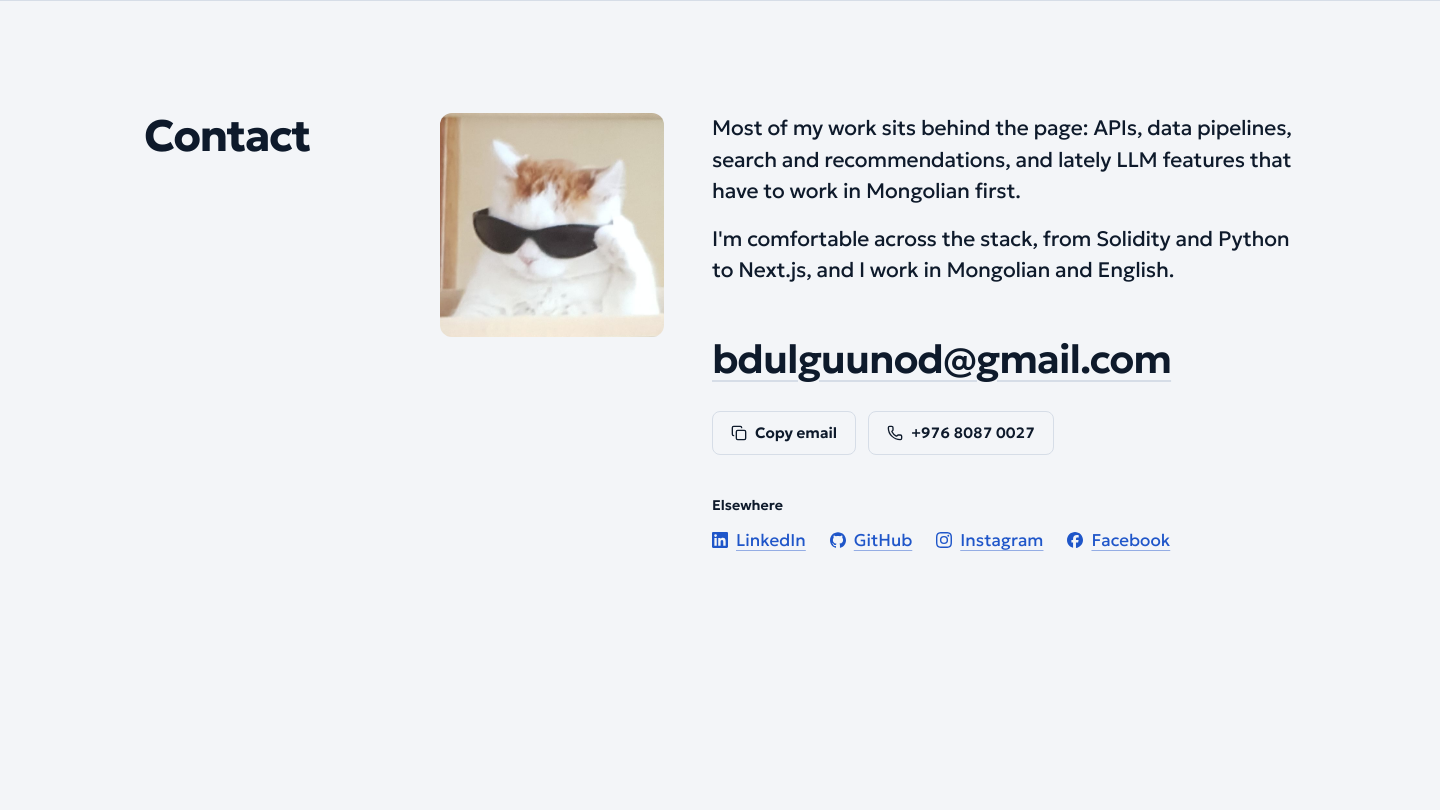
Test case: Contact › offers the address as a mail link and a copy button
The image size is (1440, 810).
Click the button "Copy email" at [784, 432], box [712, 410, 856, 454]
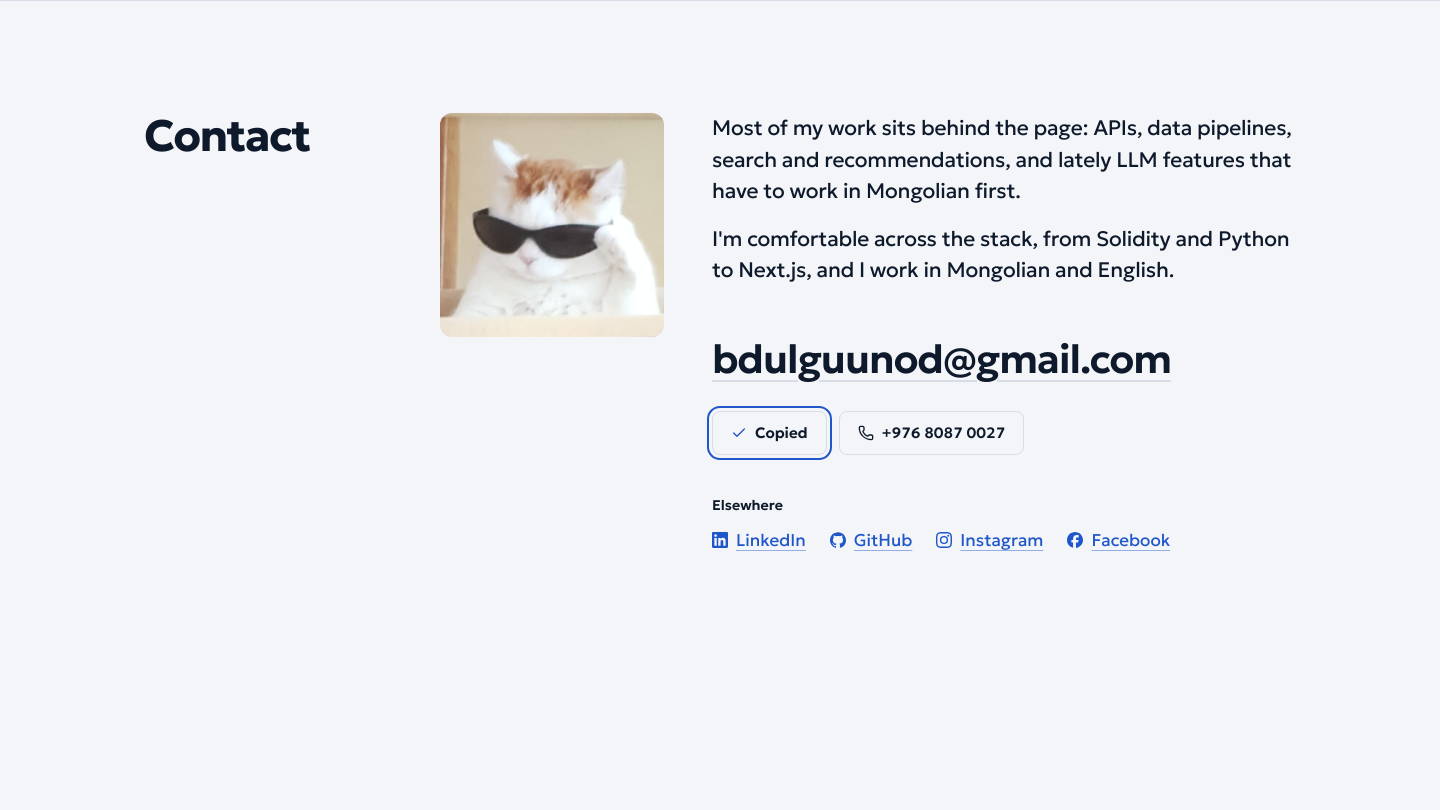
Result: the button "Copied" is shown at [712, 410, 827, 454]
